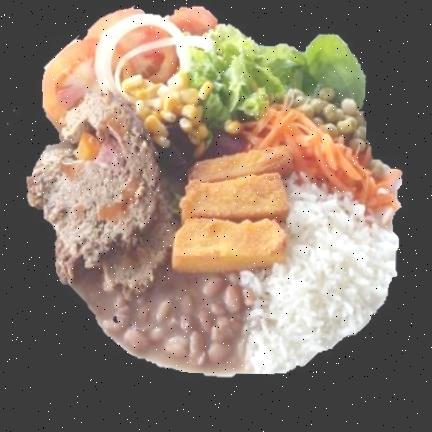beans: (76, 268, 249, 374)
carrot: (245, 104, 400, 216)
cassava: (172, 147, 292, 272)
corn: (118, 72, 212, 152)
meat: (28, 91, 174, 297)
rice: (240, 174, 398, 373)
salad: (188, 24, 365, 130)
tomato: (43, 8, 144, 128), (112, 26, 169, 69), (123, 47, 178, 82), (168, 7, 217, 34)
